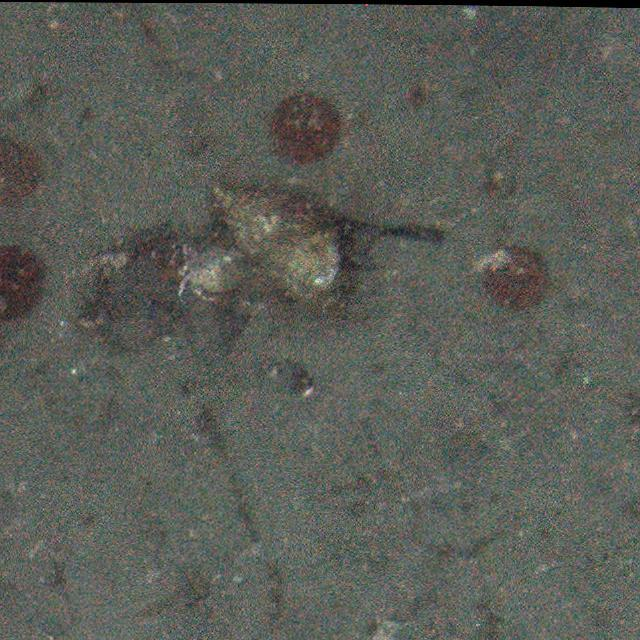whelk: (208, 186, 346, 297)
